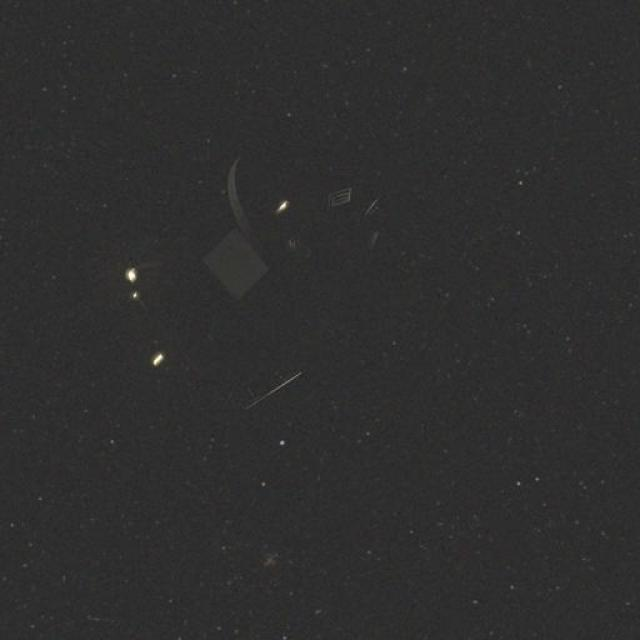proba_3_ocs: (98, 116, 410, 434)
